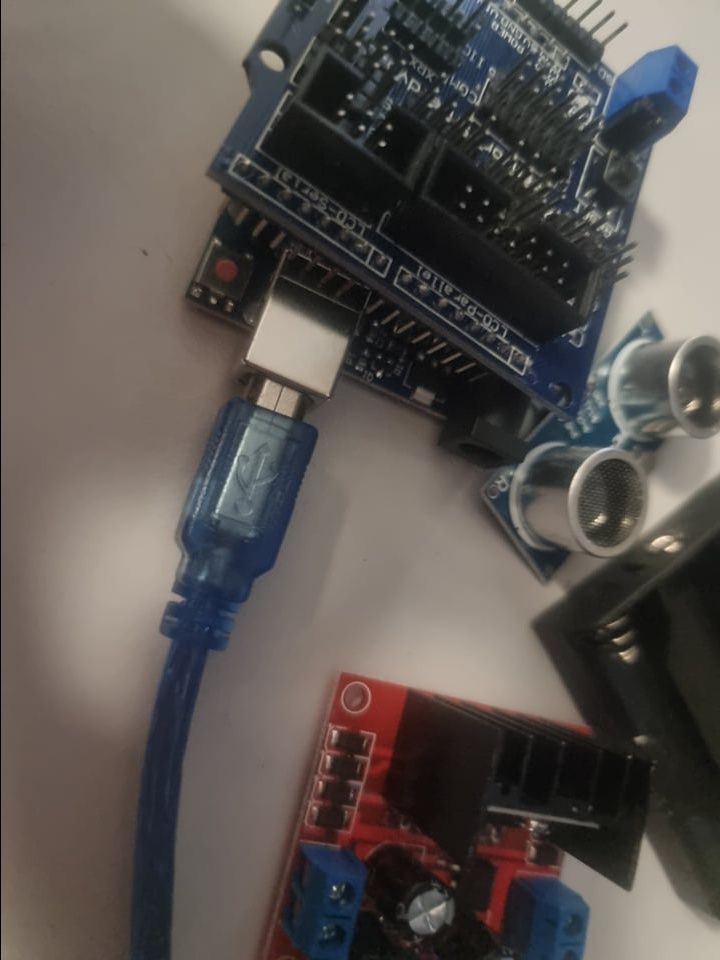5V EXPANSION: (206, 1, 695, 422)
MOTOR: (264, 665, 656, 960)
SENSOR: (477, 312, 716, 584)
UNO R3: (173, 202, 524, 464)
